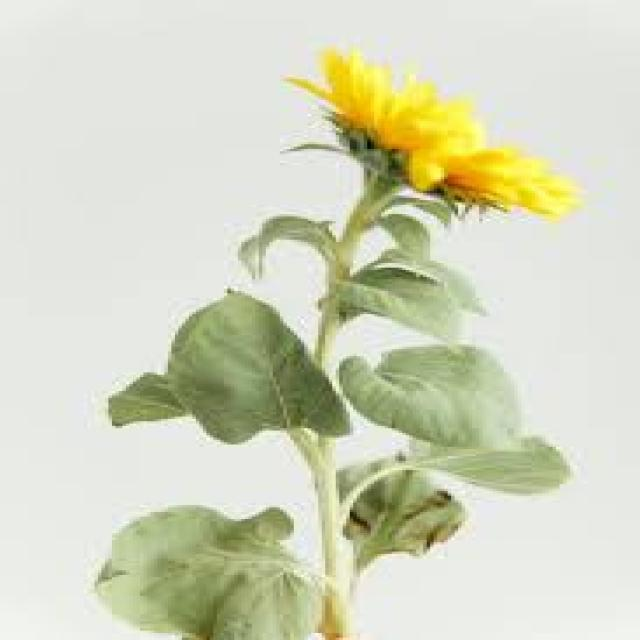sunflower: (268, 31, 594, 238)
